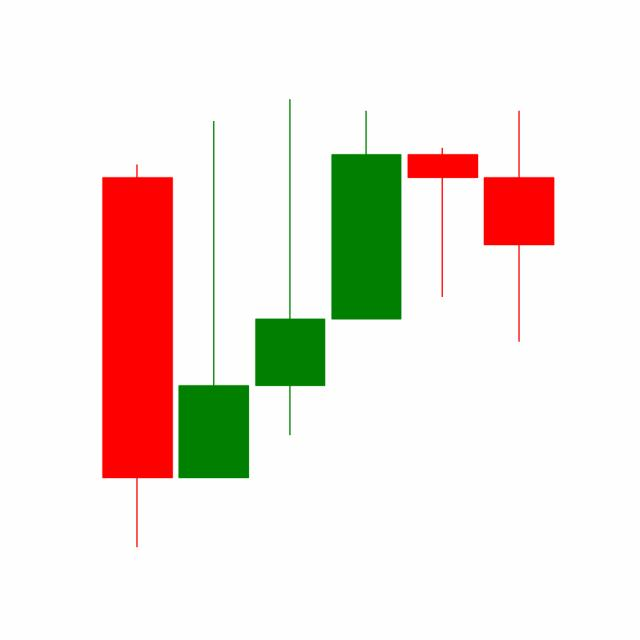Dragonfly Doji: (403, 146, 481, 298)
